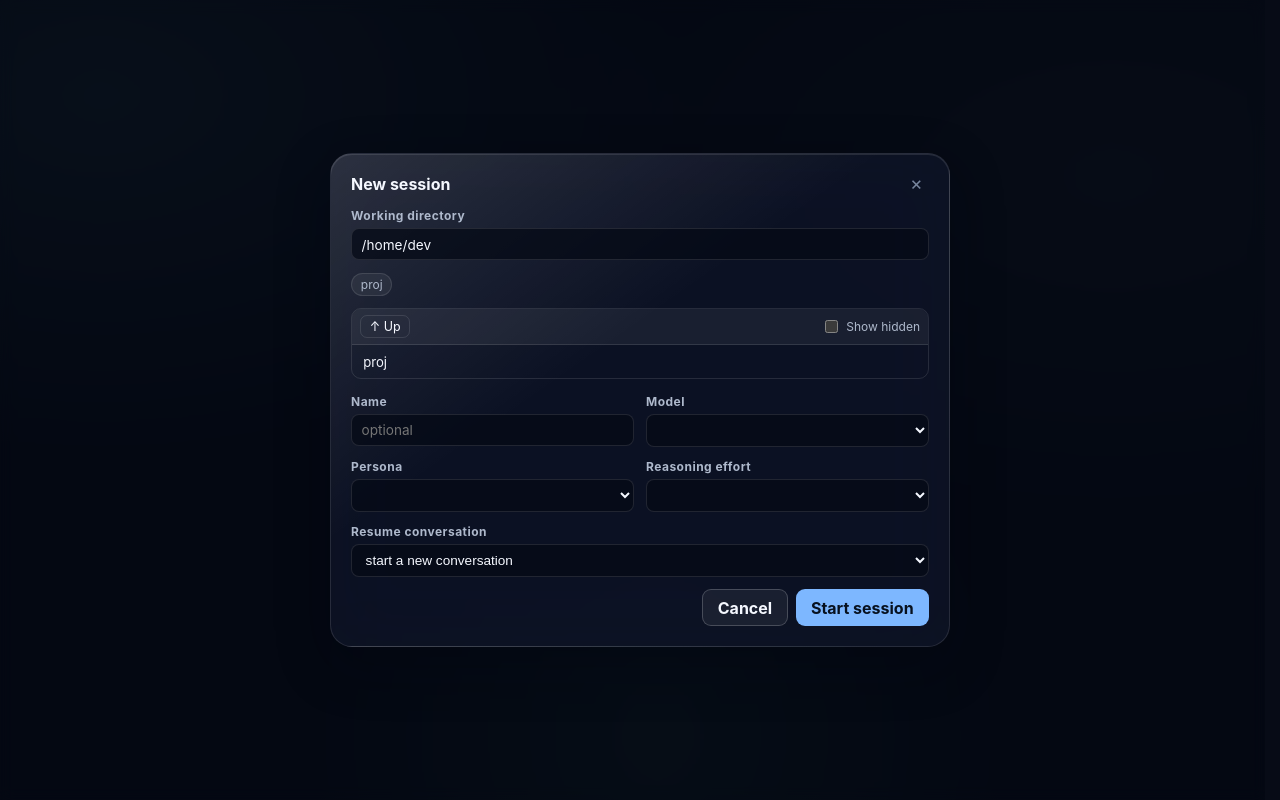
Scenario: NewSessionDialog › shows the hub error when creation fails
Click the button "Start session".
click(862, 608)  # box [796, 589, 929, 626]
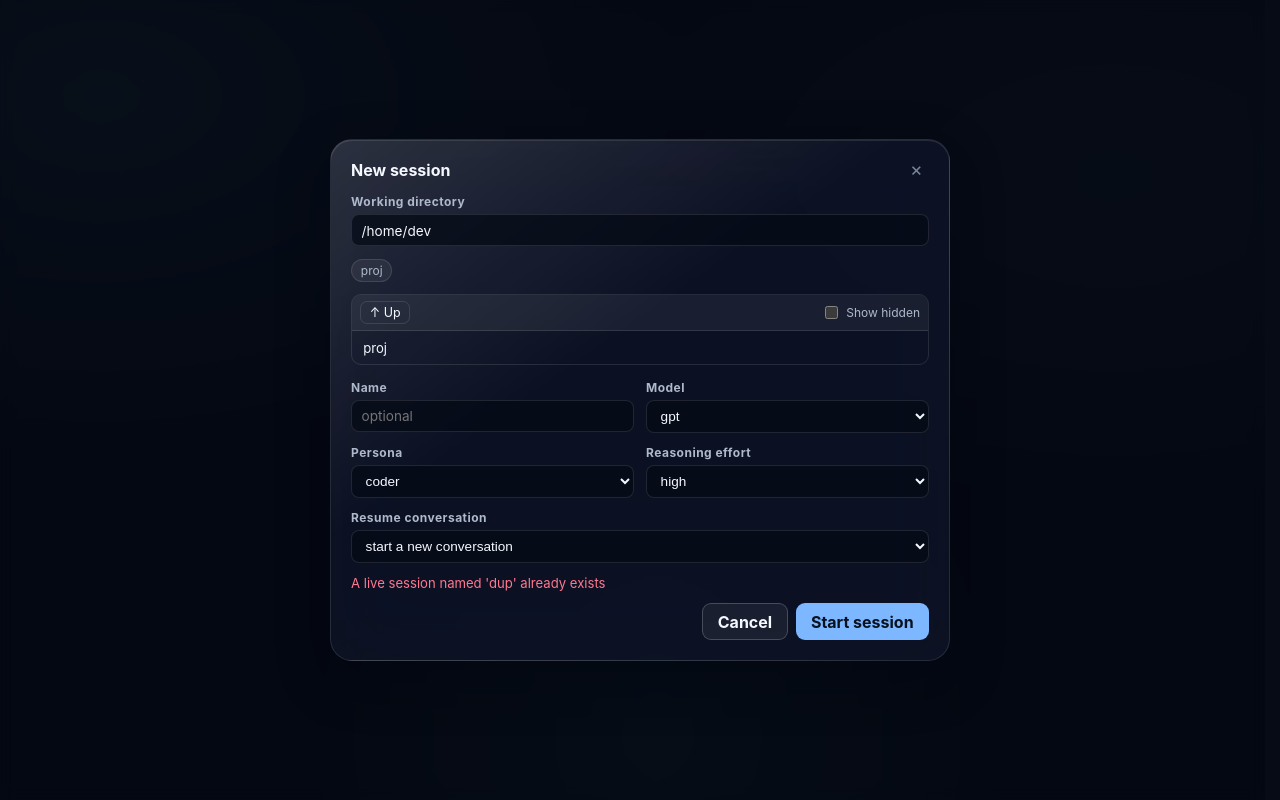
Check: the button "Start session" is enabled, box [796, 603, 929, 640]
Check: the message shows "already exists", box [351, 575, 606, 591]
